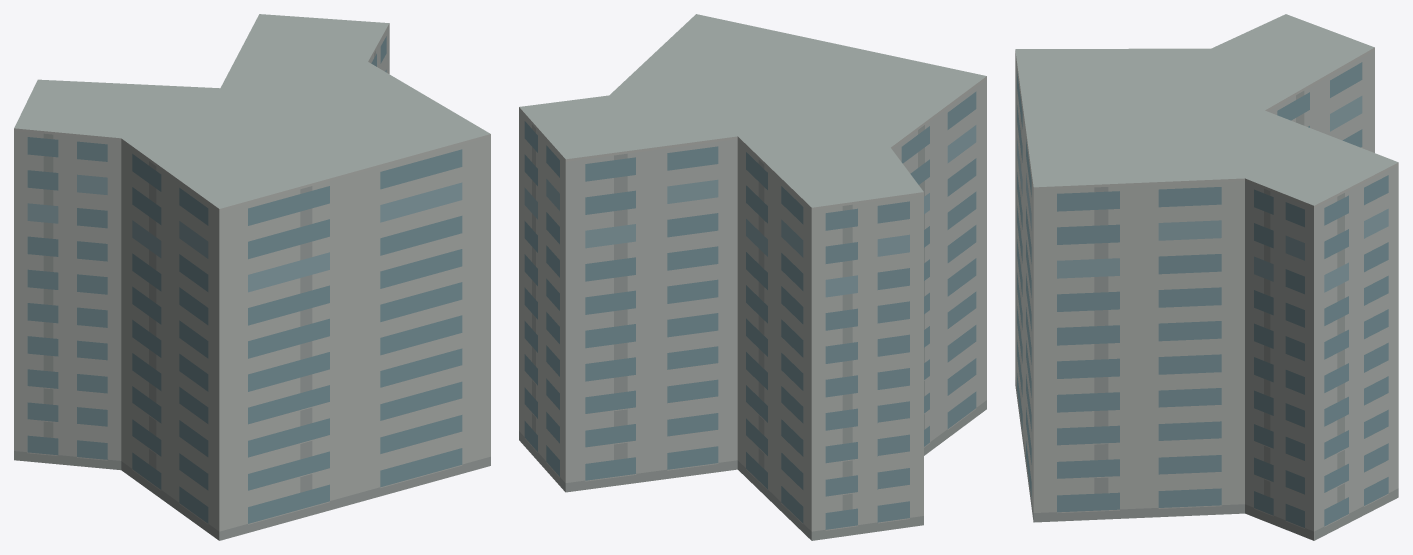
The model's file is residential-da30ee57-d716-4a53-9471-1ec32e52b24a.glb.
3 views of the same model, side by side, from view 1: azimuth 30°, elevation 25°; view 2: azimuth 150°, elevation 25°; view 3: azimuth 270°, elevation 25° (orthographic).
Visible parts, largest first — view 1: residential-da30ee57-d716-4a53-9471-1ec32e52b24a.tmp; view 2: residential-da30ee57-d716-4a53-9471-1ec32e52b24a.tmp; view 3: residential-da30ee57-d716-4a53-9471-1ec32e52b24a.tmp.
Boxes of the visible parts, x1,y1,x2,y2 form: residential-da30ee57-d716-4a53-9471-1ec32e52b24a.tmp: [14, 14, 490, 540]; residential-da30ee57-d716-4a53-9471-1ec32e52b24a.tmp: [519, 14, 986, 540]; residential-da30ee57-d716-4a53-9471-1ec32e52b24a.tmp: [1015, 14, 1398, 540].
Bounding box in the file's own units: 38.07 × 31 × 32.16.
